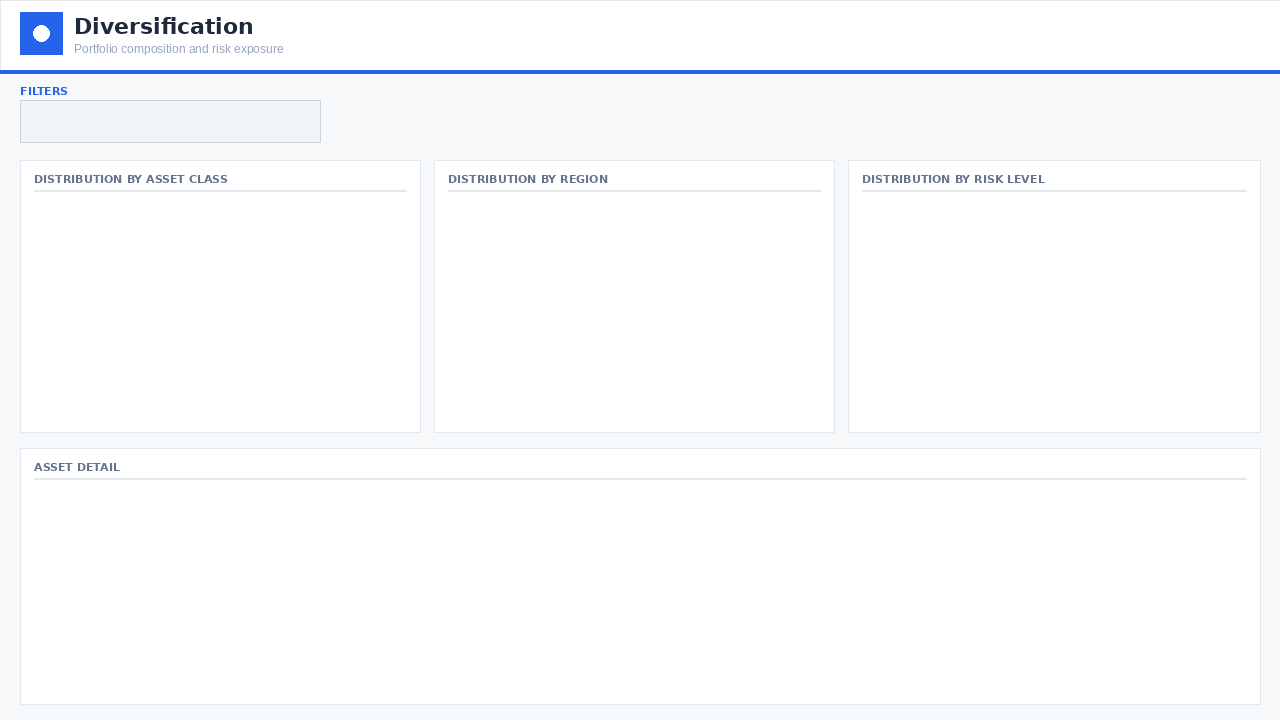

This screenshot's page, from the dashboard's own definition file:
{"tool":"powerbi","page":{"name":"Diversificación","canvas":[1280,720],"ordinal":3},"visuals":[{"type":"tableEx","title":"Rendimiento por activo","fields":{"Values":["Dim_Assets.Ticker","Dim_Assets.AssetName","Dim_Assets.Sector","Dim_Assets.Region","Dim_Assets.RiskLevel","Dim_Assets.IsDividendPaying"]},"box":[28,474.7,1220,224],"z":0},{"type":"slicer","title":"Clase de activo","fields":{"Values":["Dim_Assets.AssetClass"]},"box":[0,97.5,341.5,50],"z":1000},{"type":"donutChart","title":"Distribución por clase de activo","fields":{"Category":["Dim_Assets.AssetClass"],"Y":["Fact_CurrentPrices.Valor Actual MXN"]},"box":[19.1,191,398.5,235.5],"z":2000},{"type":"donutChart","title":"Distribución por región","fields":{"Category":["Dim_Assets.Region"],"Y":["Fact_CurrentPrices.Valor Actual MXN"]},"box":[432.9,191,399.8,235.5],"z":3000},{"type":"donutChart","title":"Distribución por nivel de riesgo","fields":{"Category":["Dim_Assets.RiskLevel"],"Y":["Fact_CurrentPrices.Valor Actual MXN"]},"box":[848,191,399.8,235.5],"z":4000}]}

Visuals, with their boxes in screenshot pixels (x1, y1, x2, y2), scaled from the page's 1280x720 canvas onto the 1280x720 screenshot:
"Rendimiento por activo" tableEx: [left=28, top=475, right=1248, bottom=699]
"Clase de activo" slicer: [left=0, top=98, right=342, bottom=148]
"Distribución por clase de activo" donutChart: [left=19, top=191, right=418, bottom=426]
"Distribución por región" donutChart: [left=433, top=191, right=833, bottom=426]
"Distribución por nivel de riesgo" donutChart: [left=848, top=191, right=1248, bottom=426]
